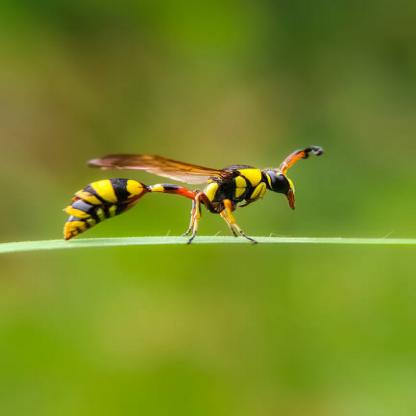sawfly: (58, 143, 333, 250)
